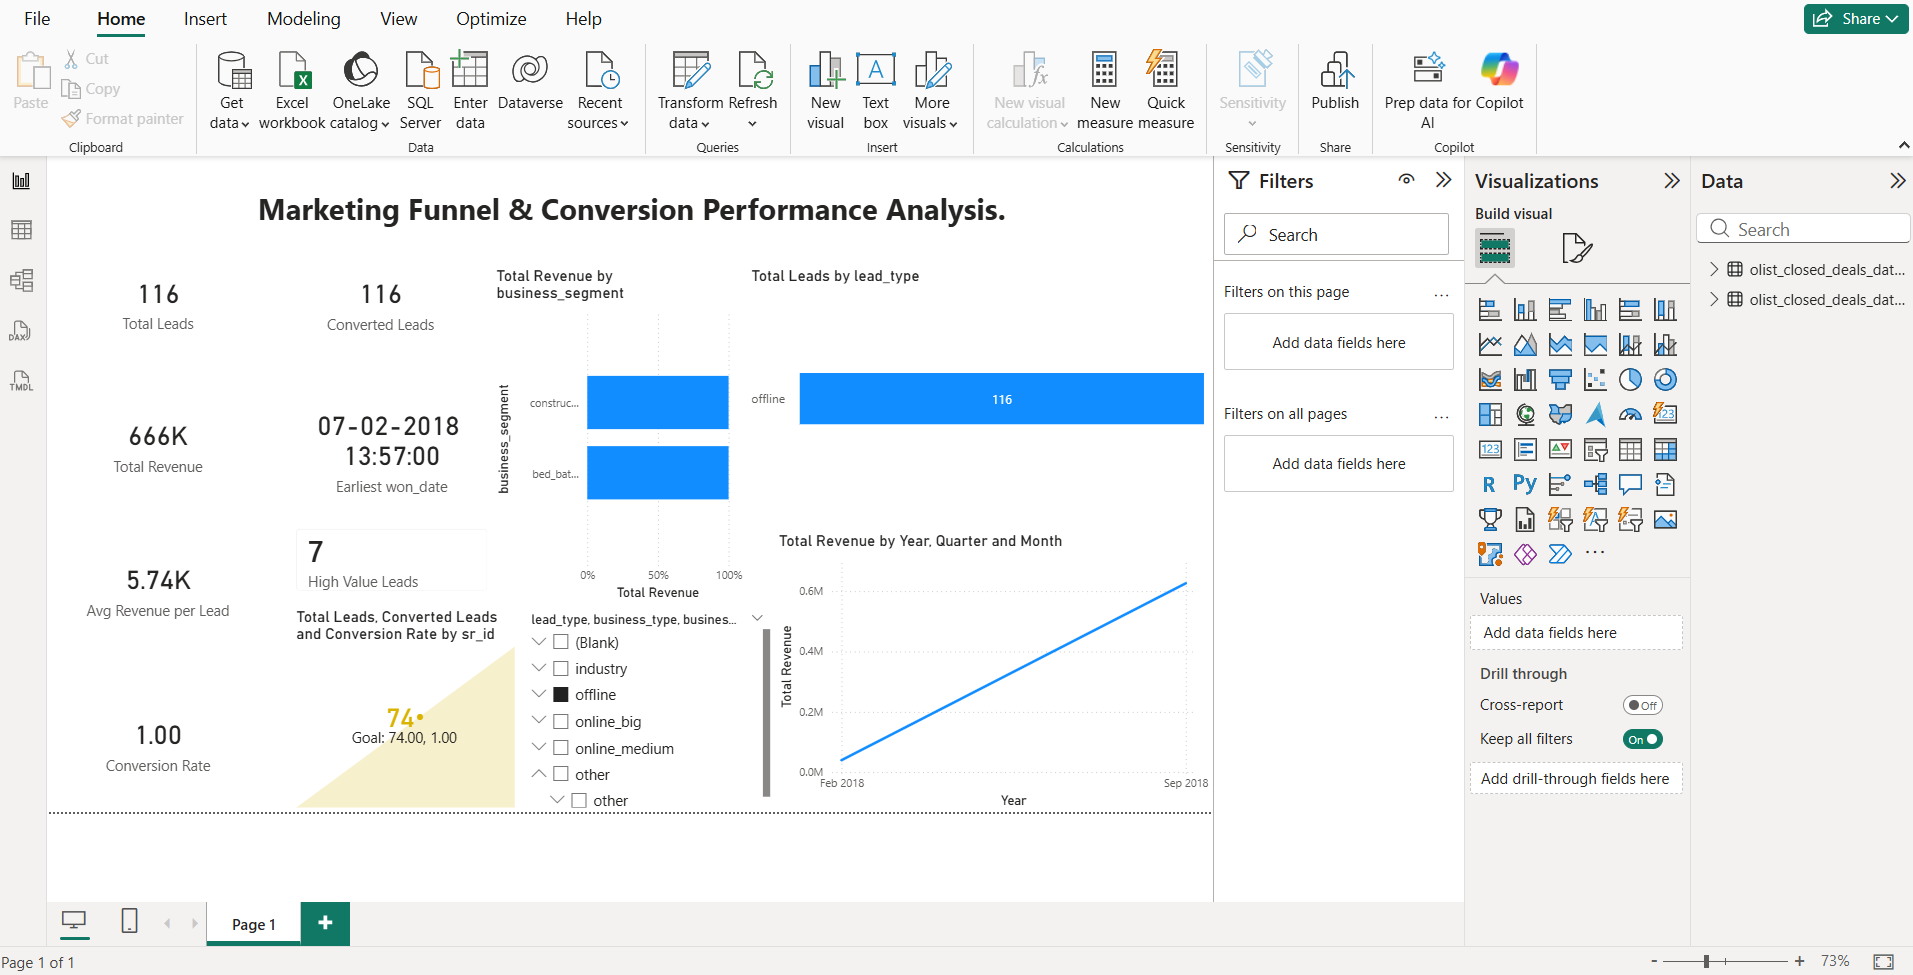

The page's visual inventory and layout, read from the dashboard file:
{"tool":"powerbi","page":{"name":"Page 1","canvas":[1280,720],"ordinal":0},"visuals":[{"type":"kpi","fields":{"Indicator":["olist_closed_deals_dataset.Total Leads"],"Goal":["olist_closed_deals_dataset.Converted Leads","olist_closed_deals_dataset.Conversion Rate"],"TrendLine":["olist_closed_deals_dataset.sr_id"]},"box":[269,495.4,249.7,225],"z":0},{"type":"funnel","fields":{"Category":["olist_closed_deals_dataset.lead_type"],"Y":["olist_closed_deals_dataset.Total Leads"]},"box":[768.4,120.8,511.8,271.7],"z":1000},{"type":"hundredPercentStackedBarChart","fields":{"Category":["olist_closed_deals_dataset.business_segment"],"Y":["olist_closed_deals_dataset.Total Revenue"]},"box":[488.5,120.8,279.9,371.9],"z":2000},{"type":"lineChart","fields":{"Y":["olist_closed_deals_dataset.Total Revenue"],"Category":["olist_closed_deals_dataset.won_date.Variation.Date Hierarchy.Year","olist_closed_deals_dataset.won_date.Variation.Date Hierarchy.Quarter","olist_closed_deals_dataset.won_date.Variation.Date Hierarchy.Month","olist_closed_deals_dataset.won_date.Variation.Date Hierarchy.Day"]},"box":[798.6,411.7,481.6,308.7],"z":3000},{"type":"slicer","fields":{"Values":["olist_closed_deals_dataset.lead_type","olist_closed_deals_dataset.business_type","olist_closed_deals_dataset.business_segment"]},"box":[518.7,495.4,279.9,225],"z":4000},{"type":"cardVisual","fields":{"Data":["olist_closed_deals_dataset.High Value Leads"]},"box":[256.6,392.5,244.3,102.9],"z":5000},{"type":"card","fields":{"Values":["olist_closed_deals_dataset.Total Leads"]},"box":[0,79.6,244.3,160.5],"z":6000},{"type":"card","fields":{"Values":["olist_closed_deals_dataset.Total Revenue"]},"box":[0,240.1,244.3,152.3],"z":7000},{"type":"card","fields":{"Values":["olist_closed_deals_dataset.Avg Revenue per Lead"]},"box":[0,392.5,244.3,163.3],"z":8000},{"type":"card","fields":{"Values":["olist_closed_deals_dataset.Conversion Rate"]},"box":[0,568.1,244.3,152.3],"z":9000},{"type":"card","fields":{"Values":["olist_closed_deals_dataset.Converted Leads"]},"box":[244.3,79.6,244.3,161.9],"z":10000},{"type":"card","fields":{"Values":["Min(olist_closed_deals_dataset.won_date)"]},"box":[269,241.5,219.6,160.5],"z":12000},{"type":"textbox","box":[226.4,31.6,853.5,60.4],"z":12001}]}

Visuals, with their boxes on the page's 1280x720 design canvas (x1, y1, x2, y2). These are canvas units, not pixel positions in the 1913x975 screenshot, which may show the page scaled, cropped or inside an application window:
kpi - olist_closed_deals_dataset.Total Leads x olist_closed_deals_dataset.Converted Leads: (left=269, top=495, right=519, bottom=720)
funnel - olist_closed_deals_dataset.lead_type x olist_closed_deals_dataset.Total Leads: (left=768, top=121, right=1280, bottom=392)
hundredPercentStackedBarChart - olist_closed_deals_dataset.business_segment x olist_closed_deals_dataset.Total Revenue: (left=488, top=121, right=768, bottom=493)
lineChart - olist_closed_deals_dataset.Total Revenue x olist_closed_deals_dataset.won_date.Variation.Date Hierarchy.Year: (left=799, top=412, right=1280, bottom=720)
slicer - olist_closed_deals_dataset.lead_type x olist_closed_deals_dataset.business_type: (left=519, top=495, right=799, bottom=720)
cardVisual - olist_closed_deals_dataset.High Value Leads: (left=257, top=392, right=501, bottom=495)
card - olist_closed_deals_dataset.Total Leads: (left=0, top=80, right=244, bottom=240)
card - olist_closed_deals_dataset.Total Revenue: (left=0, top=240, right=244, bottom=392)
card - olist_closed_deals_dataset.Avg Revenue per Lead: (left=0, top=392, right=244, bottom=556)
card - olist_closed_deals_dataset.Conversion Rate: (left=0, top=568, right=244, bottom=720)
card - olist_closed_deals_dataset.Converted Leads: (left=244, top=80, right=489, bottom=242)
card - Min(olist_closed_deals_dataset.won_date): (left=269, top=242, right=489, bottom=402)
textbox: (left=226, top=32, right=1080, bottom=92)
